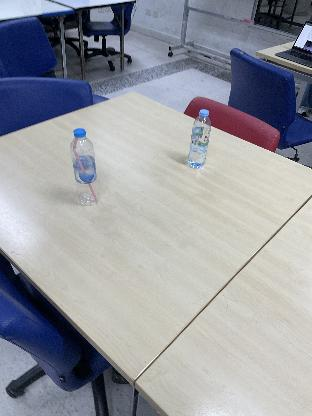Plastic Bottle: (70, 127, 102, 207), (187, 107, 211, 170)
